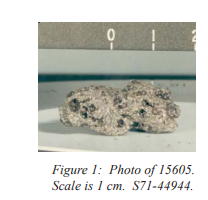Basalt: (55, 70, 186, 142)
